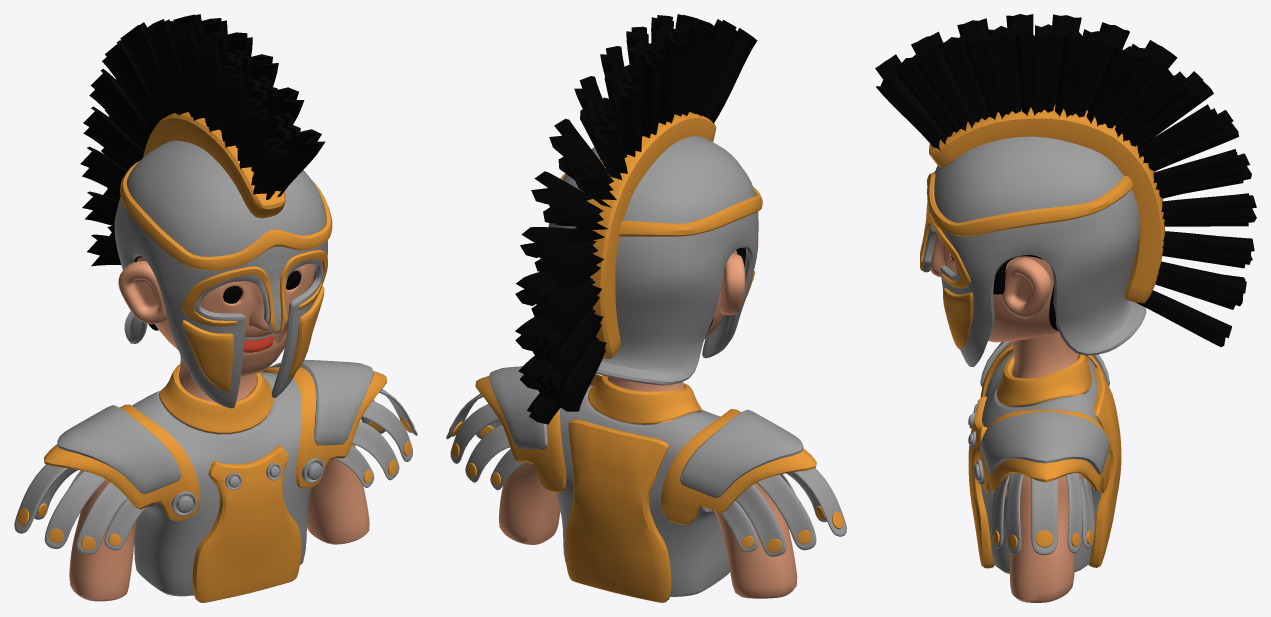
The model's file is 30.Warrior.glb.
The picture shows the model from 3 angles, left to right: view 1: azimuth 30°, elevation 25°; view 2: azimuth 150°, elevation 25°; view 3: azimuth 270°, elevation 25°; orthographic projection. The views are drawn at different scales.
Visible parts, largest first — view 1: Base Model.134, NurbsPath.360, Base Model.129, Base Model.132, Base Model.130, Plane.133, Plane.117, Plane.132, Base Model.131, Base Model.136, Base Model.135, NurbsPath.358 (+12 smaller); view 2: Base Model.134, NurbsPath.360, Base Model.133, Base Model.129, NurbsPath.359, Base Model.130, NurbsPath.358, Base Model.135, Plane.133, Plane.132, Plane.117, Plane.114 (+9 smaller); view 3: Base Model.134, NurbsPath.358, NurbsPath.359, Base Model.135, Base Model.130, Base Model.129, Plane.117, NurbsPath.360, Base Model.136, Base Model.133, Plane.114, Base Model.131 (+11 smaller).
Boxes of the visible parts, <box> form: Base Model.134: <box>114,140,327,408</box>; NurbsPath.360: <box>80,19,288,266</box>; Base Model.129: <box>132,364,313,596</box>; Base Model.132: <box>192,445,301,602</box>; Base Model.130: <box>69,355,369,601</box>; Plane.133: <box>57,405,181,494</box>; Plane.117: <box>267,360,373,445</box>; Plane.132: <box>44,404,200,521</box>; Base Model.131: <box>137,257,315,376</box>; Base Model.136: <box>120,161,332,270</box>; Base Model.135: <box>143,112,285,218</box>; NurbsPath.358: <box>170,14,325,197</box>; Base Model.134: <box>548,136,758,385</box>; NurbsPath.360: <box>550,19,757,411</box>; Base Model.133: <box>565,419,671,602</box>; Base Model.129: <box>555,375,729,596</box>; NurbsPath.359: <box>531,21,713,400</box>; Base Model.130: <box>499,377,797,598</box>; NurbsPath.358: <box>515,14,713,424</box>; Base Model.135: <box>576,111,716,359</box>; Plane.133: <box>680,409,803,498</box>; Plane.132: <box>661,409,816,524</box>; Plane.117: <box>488,366,547,449</box>; Plane.114: <box>475,374,601,492</box>; Base Model.134: <box>922,136,1146,367</box>; NurbsPath.358: <box>876,29,1252,346</box>; NurbsPath.359: <box>894,24,1248,309</box>; Base Model.135: <box>929,104,1165,303</box>; Base Model.130: <box>1006,333,1083,602</box>; Base Model.129: <box>979,352,1101,573</box>; Plane.117: <box>980,411,1109,474</box>; NurbsPath.360: <box>875,14,1256,280</box>; Base Model.136: <box>927,171,1133,236</box>; Base Model.133: <box>1088,367,1121,567</box>; Plane.114: <box>980,409,1110,493</box>; Base Model.131: <box>930,234,1059,342</box>.
Size of the model in its own units: 4.47 by 5.78 by 3.81.
